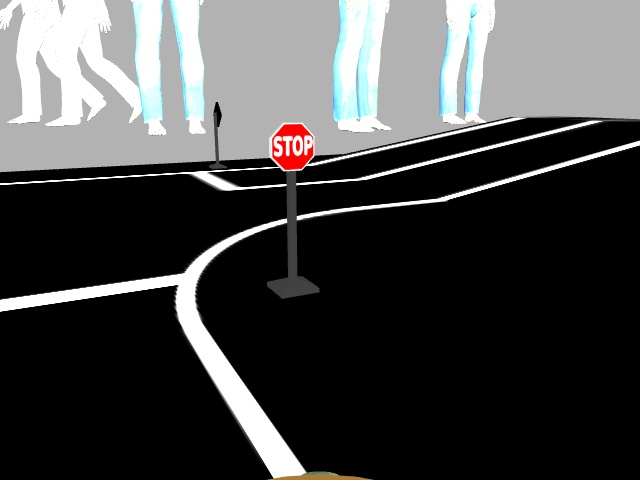Stop: (271, 121, 312, 170)
